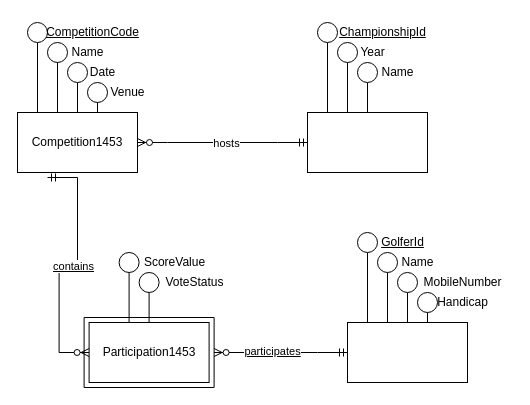
This 530x405 diagram has some shape labels left out. Each missing label, with the centre of its shape:
"Championship1453" goes at (367,142).
"Golfer1453" goes at (407,352).
